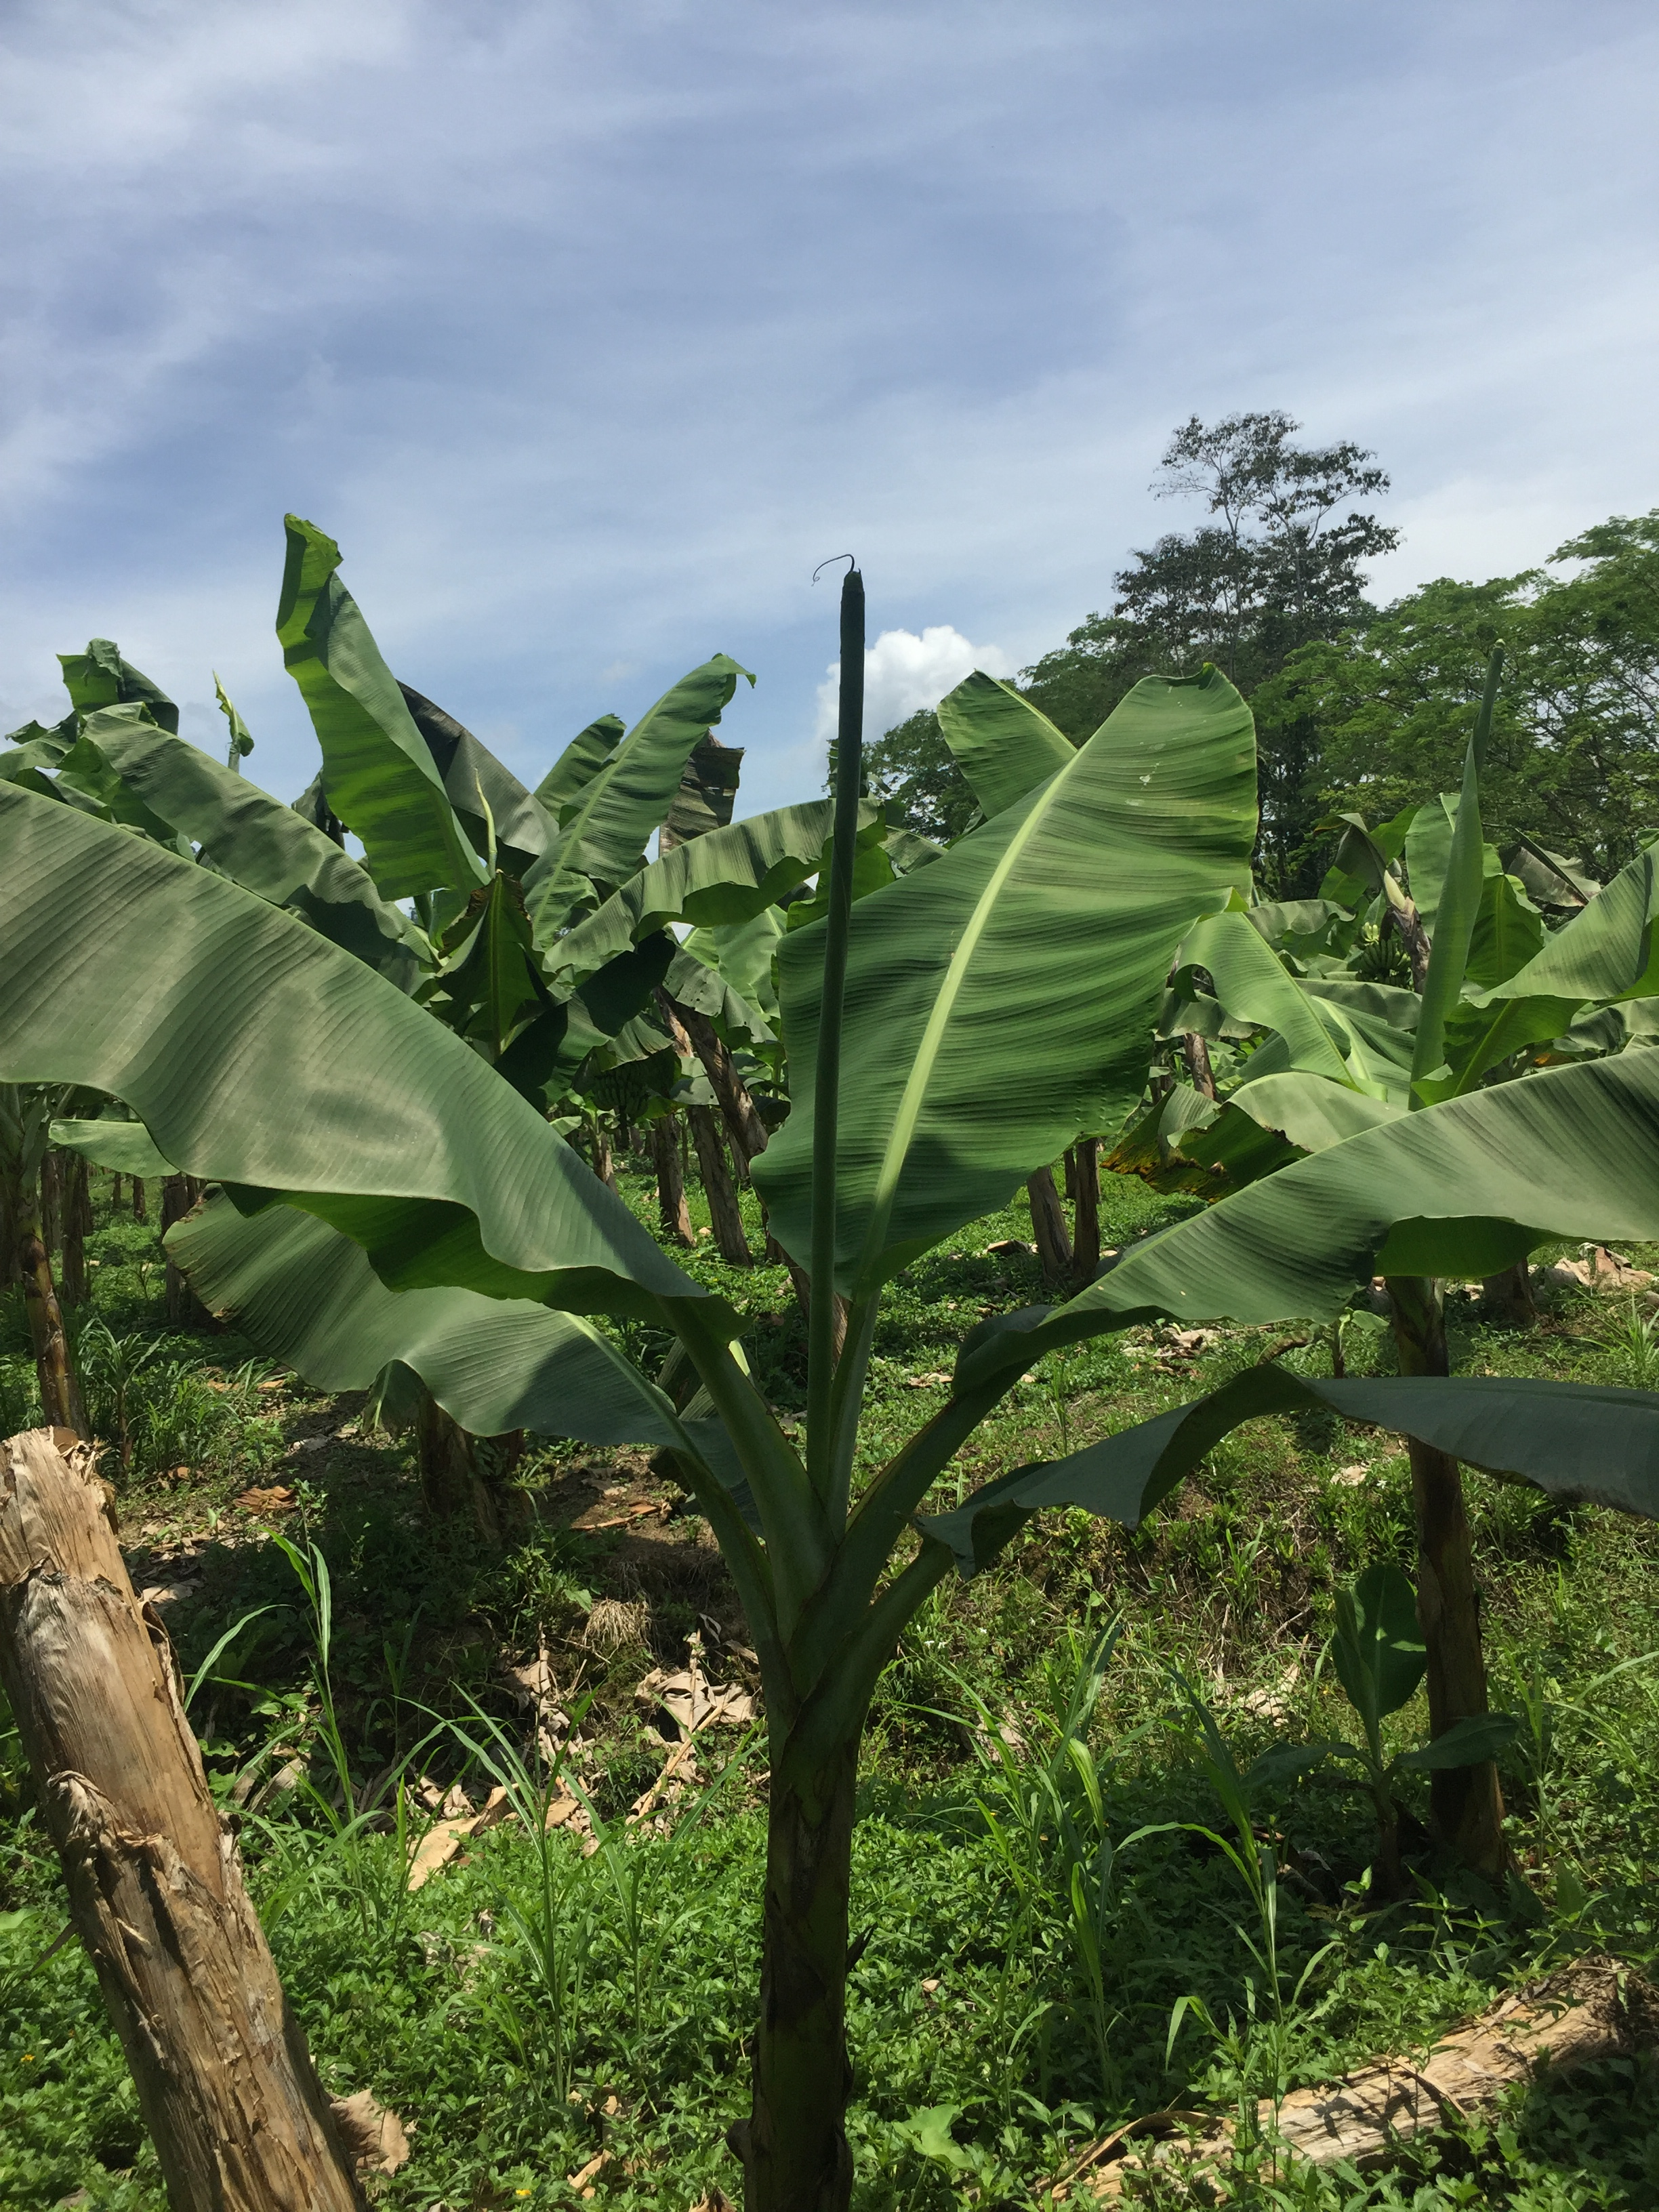candleleafs: (812, 550, 866, 1500)
